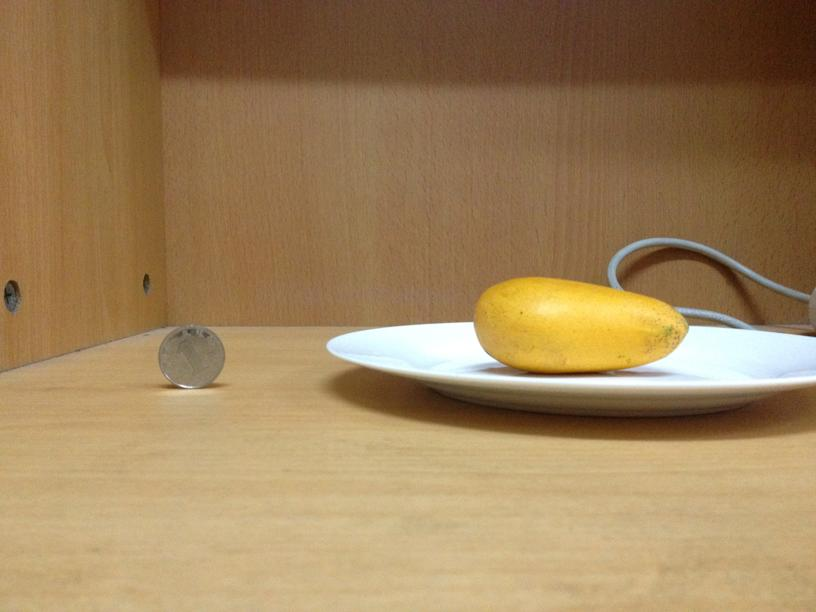coin: (158, 323, 227, 389)
mango: (469, 275, 685, 372)
